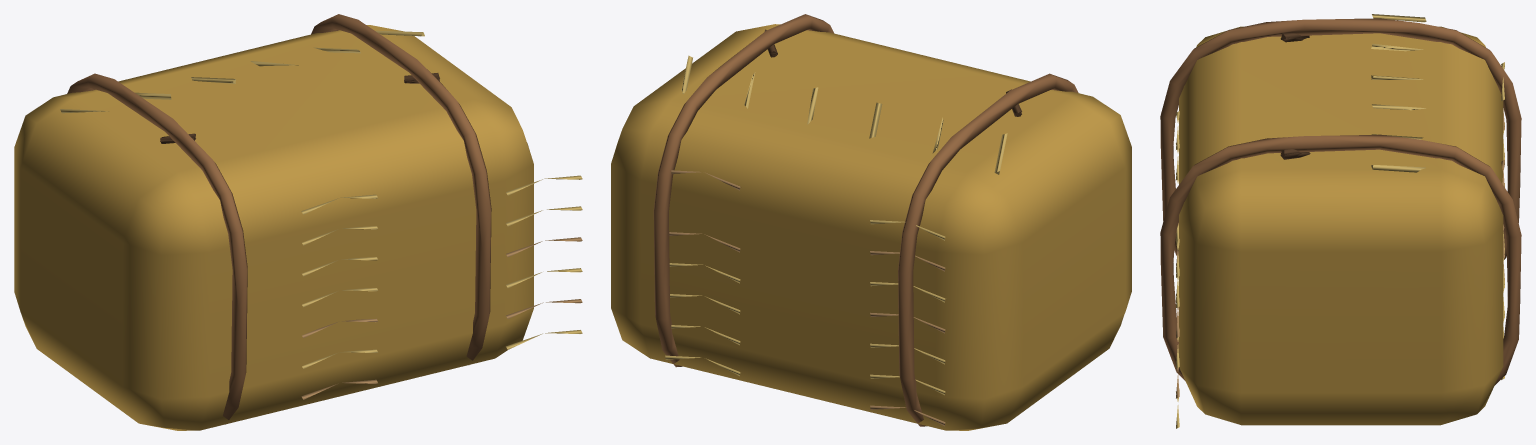
Rendered from paca_heno_lod.glb.
3 renders of one model, left to right at view 1: azimuth 30°, elevation 25°; view 2: azimuth 150°, elevation 25°; view 3: azimuth 270°, elevation 25°, orthographic. The views are drawn at different scales.
Visible parts, largest first — view 1: paca_heno; view 2: paca_heno; view 3: paca_heno.
Part boxes in pixels (x1=…): paca_heno: x1=14, y1=14, x2=582, y2=430; paca_heno: x1=611, y1=14, x2=1131, y2=430; paca_heno: x1=1160, y1=14, x2=1521, y2=428.
Size of the model in its own units: 1.09 by 0.685 by 0.8127.
